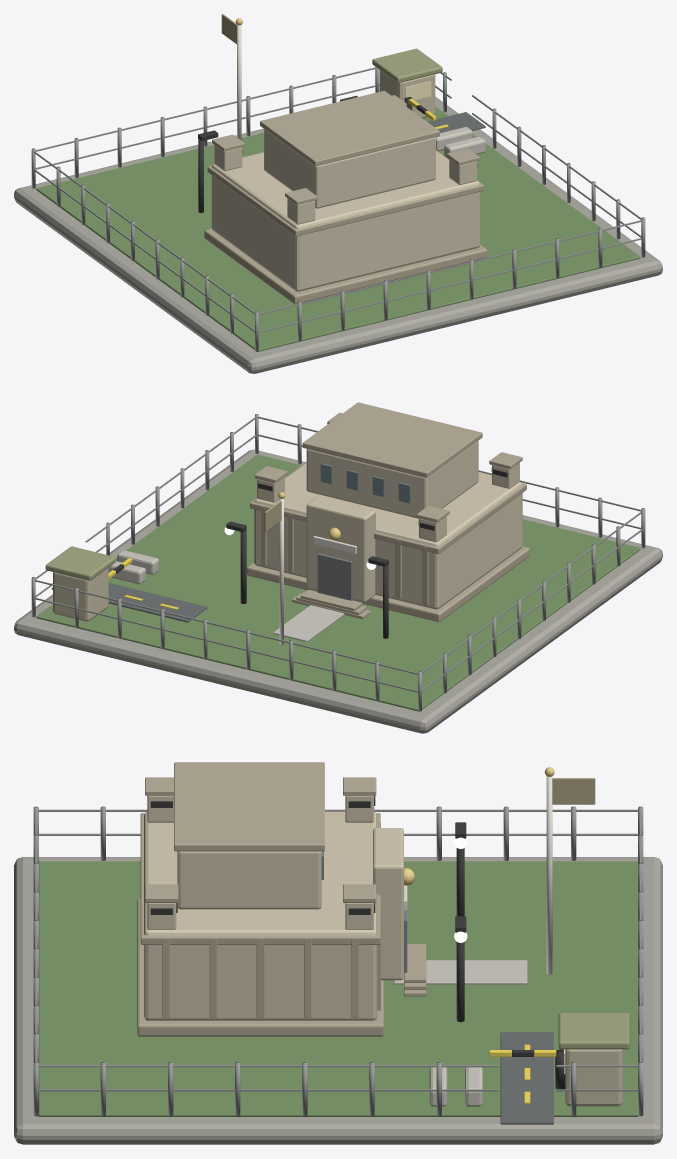
File: goldvault_6.glb
3 views of the same model, one above another, from view 1: azimuth 30°, elevation 25°; view 2: azimuth 150°, elevation 25°; view 3: azimuth 270°, elevation 25° (orthographic). The views are drawn at different scales.
Visible parts, largest first — view 1: Cube.001, Cube.016, Cube, Cube.037, Cube.036, Cube.015, Cube.029, Cube.007, Cube.006, Cube.060, Cube.065, Cube.059 (+8 smaller); view 2: Cube.001, Cube, Cube.016, Cube.037, Cube.036, Cube.030, Cube.015, Cube.006, Cube.002, Cube.007, Cube.029, Cube.031 (+12 smaller); view 3: Cube.001, Cube, Cube.016, Cube.037, Cube.036, Cube.015, Cube.002, Cube.030, Cube.006, Cube.029, Cube.007, Cube.014 (+22 smaller).
Boxes of the visible parts, left/top/right/bottom form: Cube.001: left=36, top=107, right=640, bottom=351; Cube.016: left=211, top=150, right=479, bottom=291; Cube: left=14, top=96, right=662, bottom=373; Cube.037: left=260, top=90, right=439, bottom=166; Cube.036: left=264, top=129, right=435, bottom=208; Cube.015: left=204, top=228, right=487, bottom=304; Cube.029: left=207, top=150, right=484, bottom=236; Cube.007: left=372, top=48, right=442, bottom=82; Cube.006: left=379, top=70, right=435, bottom=118; Cube.060: left=258, top=238, right=641, bottom=332; Cube.065: left=258, top=220, right=641, bottom=314; Cube.059: left=35, top=84, right=379, bottom=169; Cube.001: left=36, top=454, right=640, bottom=711; Cube: left=14, top=449, right=662, bottom=733; Cube.016: left=254, top=462, right=522, bottom=609; Cube.037: left=302, top=402, right=482, bottom=477; Cube.036: left=306, top=440, right=478, bottom=518; Cube.030: left=306, top=496, right=375, bottom=601; Cube.015: left=247, top=546, right=529, bottom=621; Cube.006: left=53, top=568, right=108, bottom=621; Cube.002: left=51, top=583, right=207, bottom=622; Cube.007: left=45, top=546, right=115, bottom=580; Cube.029: left=250, top=462, right=526, bottom=554; Cube.031: left=317, top=553, right=352, bottom=600; Cube.001: left=38, top=861, right=638, bottom=1116; Cube: left=14, top=857, right=662, bottom=1144; Cube.016: left=144, top=811, right=377, bottom=1020; Cube.037: left=174, top=762, right=324, bottom=851; Cube.036: left=177, top=851, right=321, bottom=909; Cube.015: left=137, top=898, right=383, bottom=1036; Cube.002: left=500, top=1032, right=553, bottom=1124; Cube.030: left=373, top=828, right=403, bottom=980; Cube.006: left=565, top=1049, right=622, bottom=1106; Cube.029: left=140, top=813, right=380, bottom=944; Cube.007: left=558, top=1013, right=629, bottom=1049; Cube.014: left=394, top=960, right=527, bottom=984.
Bounding box in the file's own units: 2.92 × 1.14 × 2.92.
